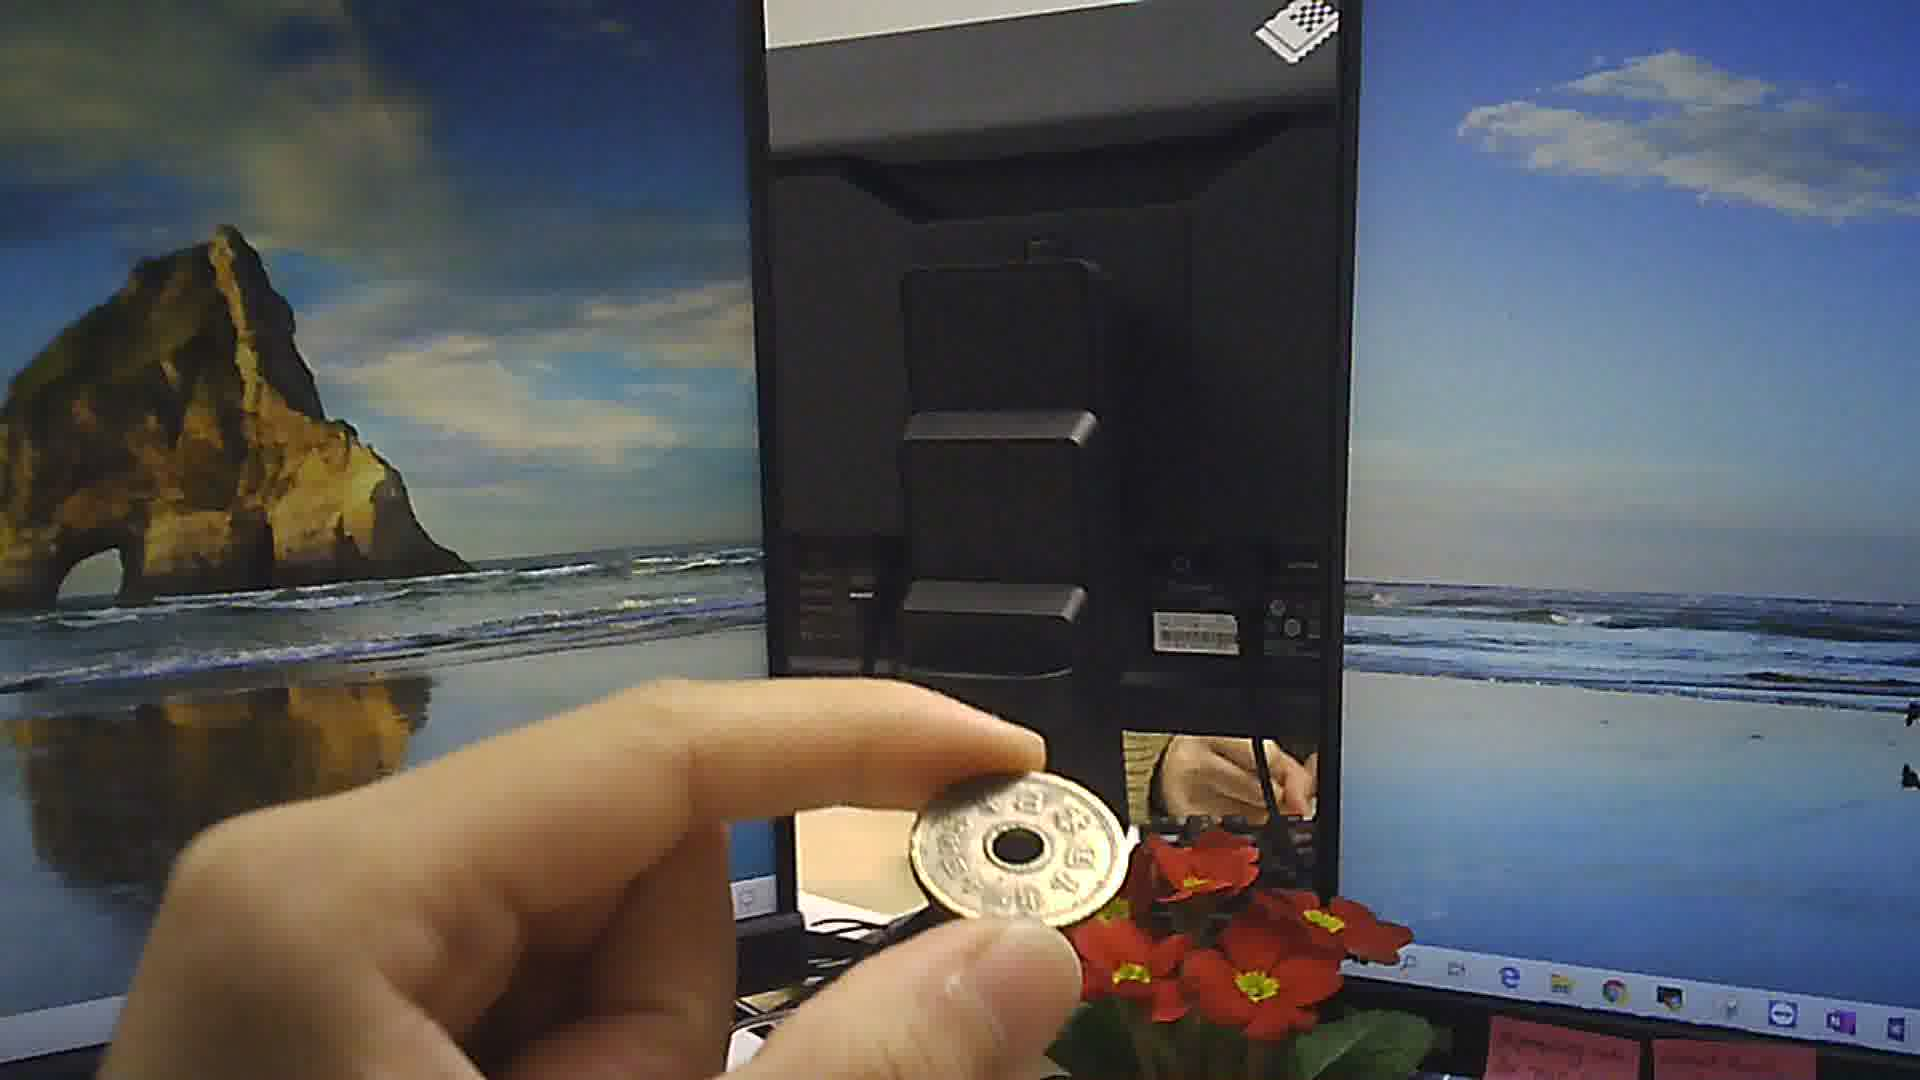5 Yen: (910, 753, 1145, 930)
